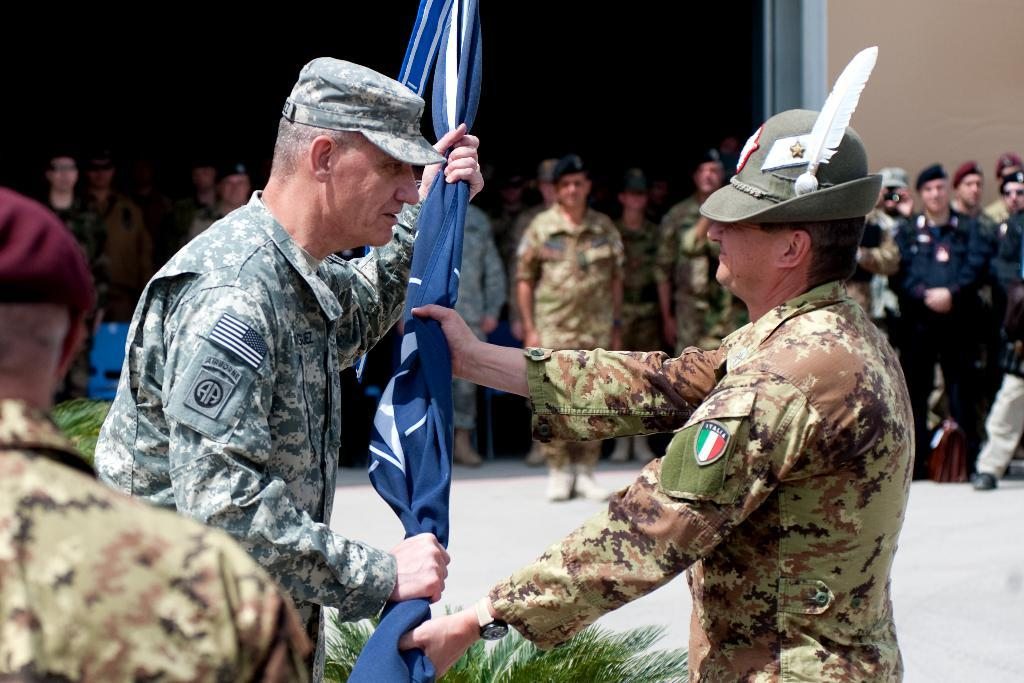Hat: (698, 48, 886, 228), (282, 55, 448, 168)
